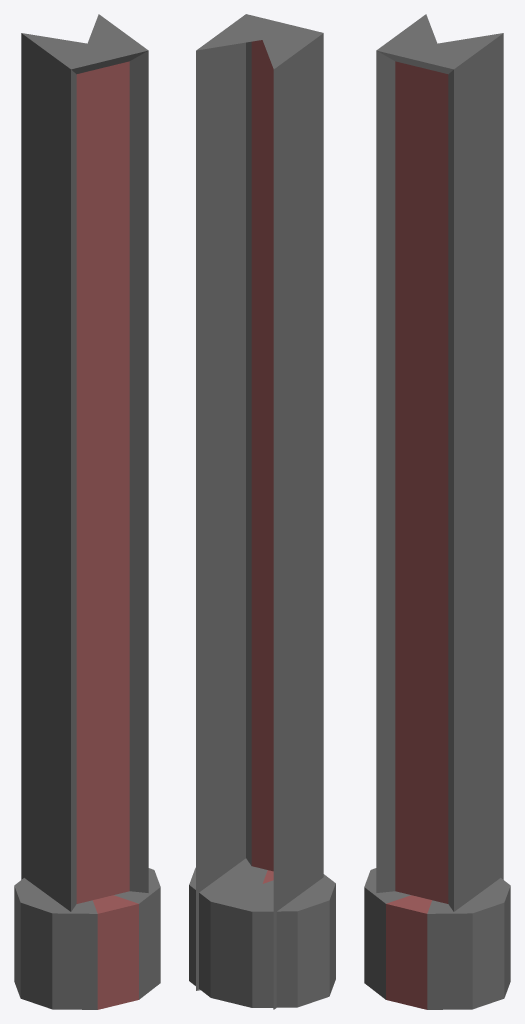
File: SM_Pillar.fbx
3 views of the same model, side by side, from view 1: azimuth 30°, elevation 25°; view 2: azimuth 150°, elevation 25°; view 3: azimuth 330°, elevation 25° (orthographic).
Parts seen in each view (by area): view 1: SM_Pillar; view 2: SM_Pillar; view 3: SM_Pillar.
Boxes of the visible parts, x1=… form: SM_Pillar: x1=14, y1=14, x2=160, y2=1009; SM_Pillar: x1=189, y1=14, x2=335, y2=1009; SM_Pillar: x1=364, y1=14, x2=510, y2=1009.
Size of the model in its own units: 44.75 by 300 by 35.8.
